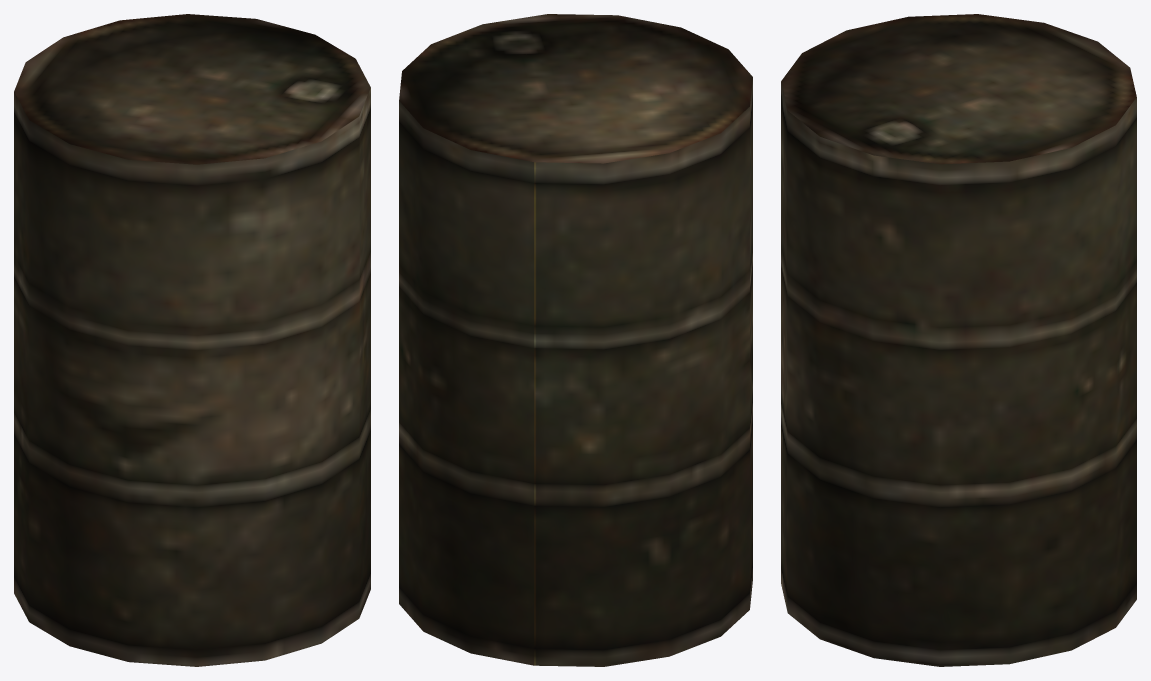
File: plain_barrel.fbx
The picture shows the model from 3 angles, left to right: view 1: azimuth 30°, elevation 25°; view 2: azimuth 150°, elevation 25°; view 3: azimuth 270°, elevation 25°; orthographic projection.
Parts seen in each view (by area): view 1: pCylinder2; view 2: pCylinder2; view 3: pCylinder2.
Part boxes in pixels (bbox=[...]): pCylinder2: bbox=[14, 14, 370, 666]; pCylinder2: bbox=[399, 14, 752, 666]; pCylinder2: bbox=[781, 14, 1136, 666].
Size of the model in its own units: 1.99 by 3.11 by 1.99.
